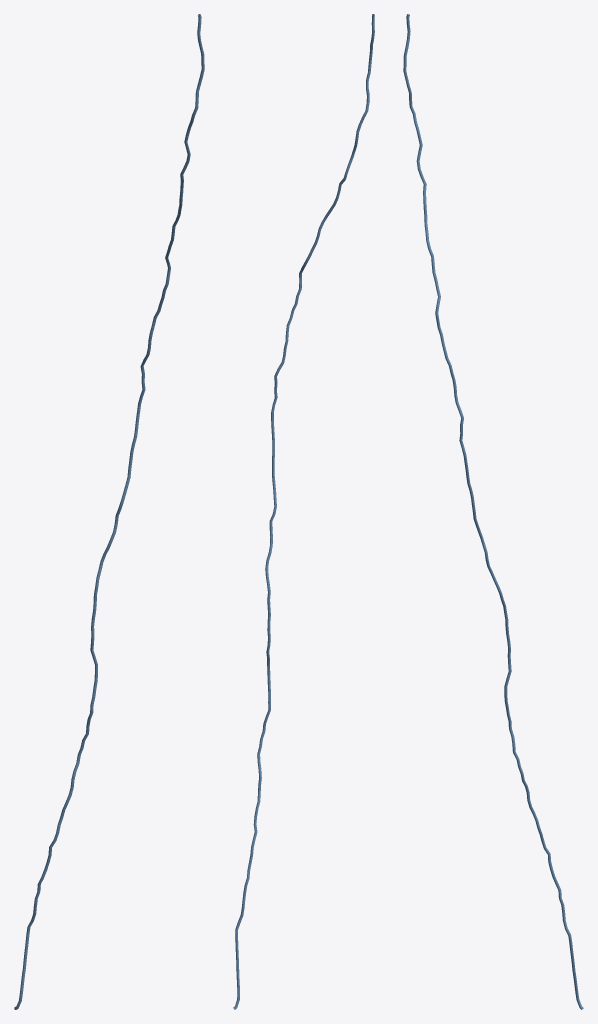
The model's file is sweep38.fbx.
The picture shows the model from 3 angles, left to right: view 1: azimuth 90°, elevation 25°; view 2: azimuth 150°, elevation 25°; view 3: azimuth 270°, elevation 25°; orthographic projection. The views are drawn at different scales.
Visible parts, largest first — view 1: sweep38; view 2: sweep38; view 3: sweep38.
Boxes of the visible parts, left/top/right/bottom form: sweep38: left=14, top=14, right=204, bottom=1009; sweep38: left=233, top=14, right=374, bottom=1009; sweep38: left=403, top=14, right=583, bottom=1009.
Bounding box in the file's own units: 0.6053 × 7.19 × 1.21.
